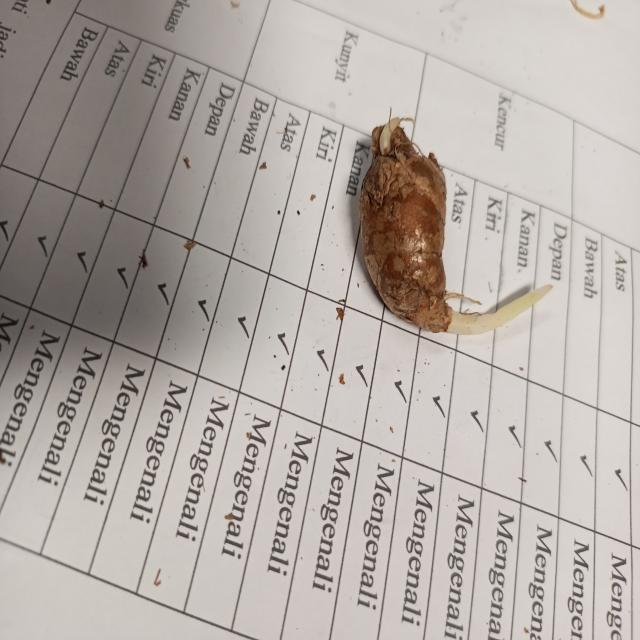ginger: (362, 120, 460, 336)
